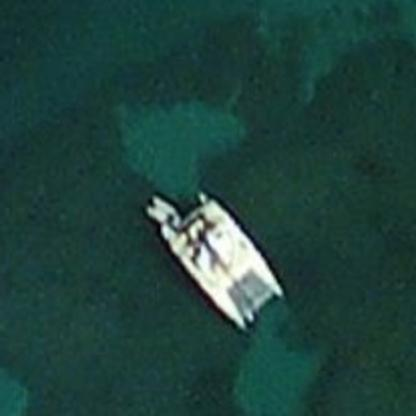ship: (139, 184, 292, 336)
